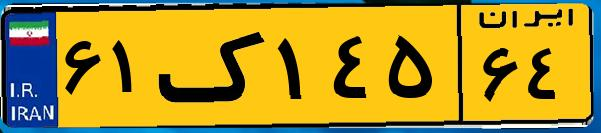1: (270, 28, 330, 110), (110, 28, 158, 98)
4: (330, 28, 385, 110), (525, 38, 570, 115)
5: (385, 28, 445, 110)
6: (57, 26, 110, 100), (475, 38, 525, 113)
ک: (158, 12, 270, 120)
